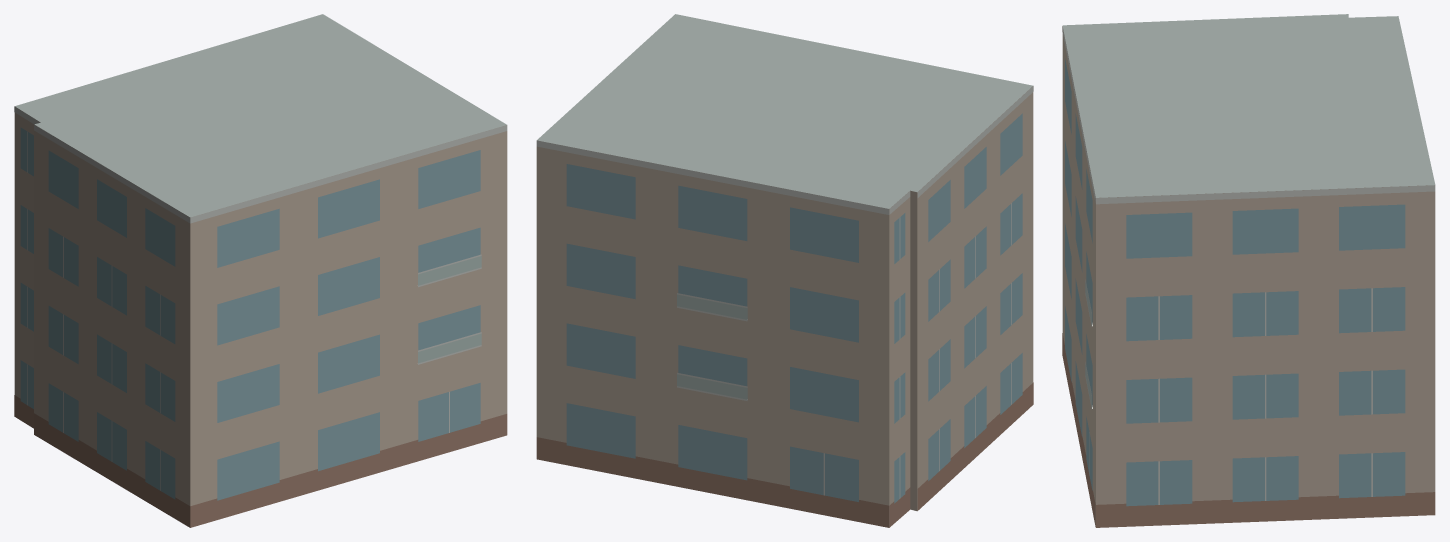
File: survey-upis-32990636.glb
The picture shows the model from 3 angles, left to right: view 1: azimuth 30°, elevation 25°; view 2: azimuth 150°, elevation 25°; view 3: azimuth 270°, elevation 25°; orthographic projection. The views are drawn at different scales.
Visible parts, largest first — view 1: survey-upis-32990636.tmp; view 2: survey-upis-32990636.tmp; view 3: survey-upis-32990636.tmp.
Boxes of the visible parts, x1,y1,x2,y2 form: survey-upis-32990636.tmp: (14, 14, 507, 527); survey-upis-32990636.tmp: (536, 14, 1033, 527); survey-upis-32990636.tmp: (1062, 14, 1435, 527).
Size of the model in its own units: 15.07 by 12.6 by 12.92.
